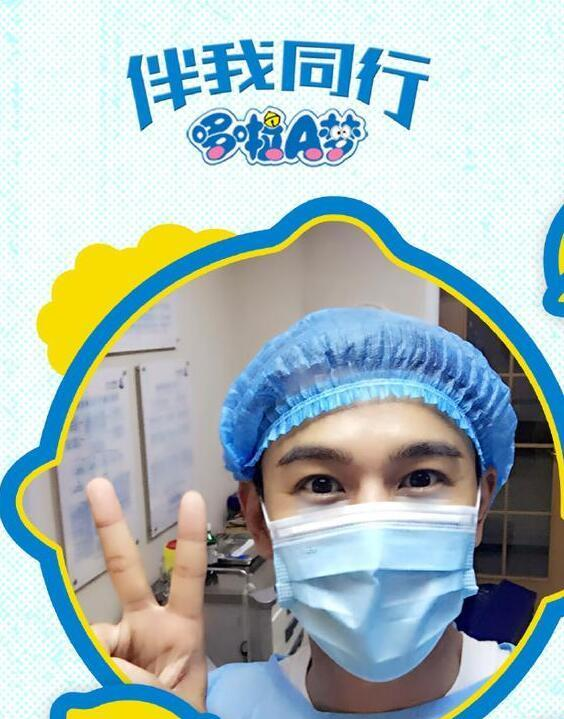face_mask: (270, 418, 478, 682)
